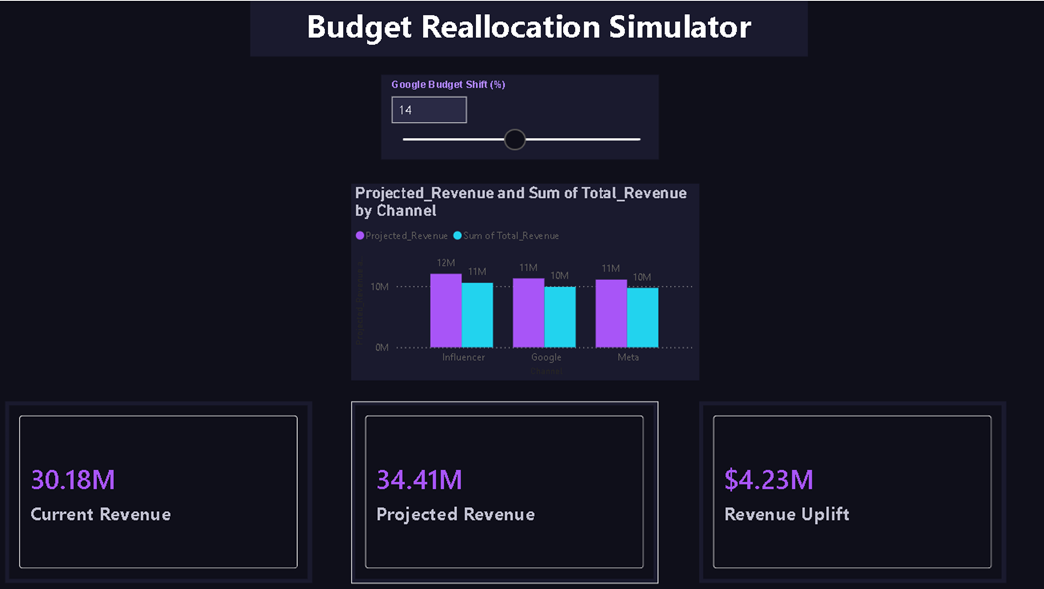

Layout of this report page (visuals, bound fields, positions):
{"tool":"powerbi","page":{"name":"Budget Optimization","canvas":[1280,720],"ordinal":2},"visuals":[{"type":"slicer","fields":{"Values":["Google_Budget_Shift.Google_Budget_Shift"]},"box":[465.7,89.3,334.2,101.3],"z":0},{"type":"cardVisual","fields":{"Data":["Metrics.Projected_Revenue"]},"box":[429.5,483.8,370.4,219.6],"z":1000},{"type":"cardVisual","fields":{"Data":["Sum(Metrics.Total_Revenue)"]},"box":[12.1,483.8,370.4,219.6],"z":2000},{"type":"textbox","box":[307.5,0,672.5,67.5],"z":3000},{"type":"clusteredColumnChart","fields":{"Category":["Metrics.Channel"],"Y":["Metrics.Projected_Revenue","Sum(Metrics.Total_Revenue)"]},"box":[429.5,220.8,419.8,237.7],"z":4000},{"type":"cardVisual","fields":{"Data":["Metrics.Revenue Uplift"]},"box":[849.3,483.8,370.4,219.6],"z":5000}]}

Visuals, with their boxes in screenshot pixels (x1, y1, x2, y2), scaled from the page's 1280x720 canvas onto the 1044x589 screenshot:
slicer - Google_Budget_Shift.Google_Budget_Shift: (380,73,652,156)
cardVisual - Metrics.Projected_Revenue: (350,396,652,575)
cardVisual - Sum(Metrics.Total_Revenue): (10,396,312,575)
textbox: (251,0,799,55)
clusteredColumnChart - Metrics.Channel x Metrics.Projected_Revenue: (350,181,693,375)
cardVisual - Metrics.Revenue Uplift: (693,396,995,575)
